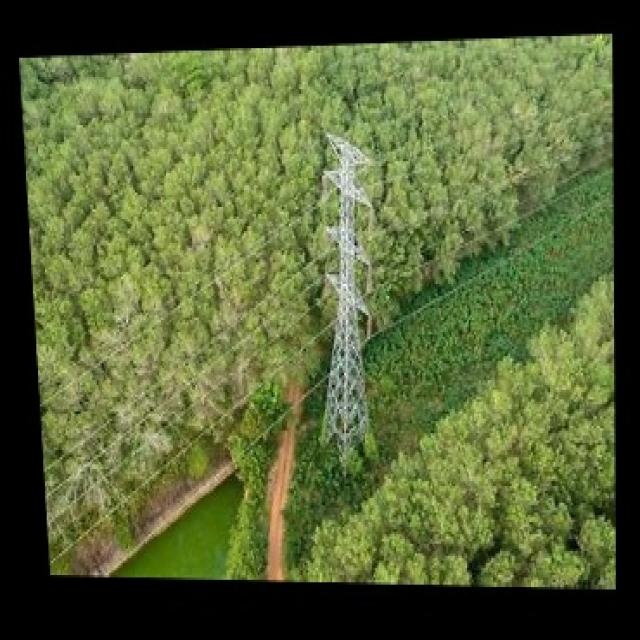utility poles: (316, 113, 392, 473)
